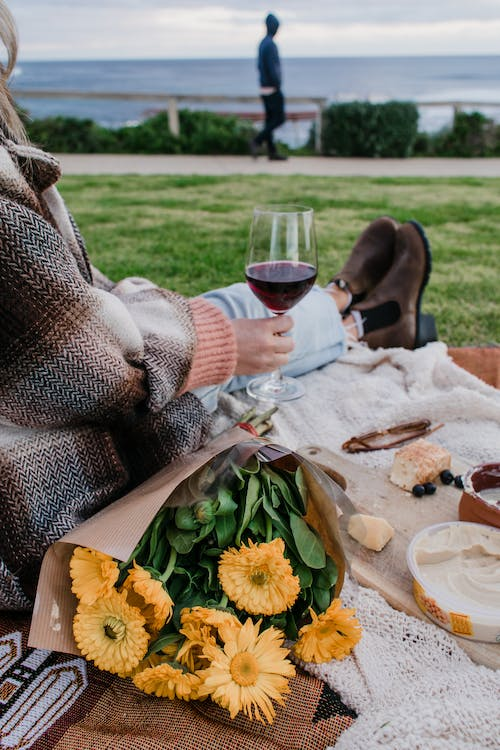alcohol: (242, 203, 321, 406)
